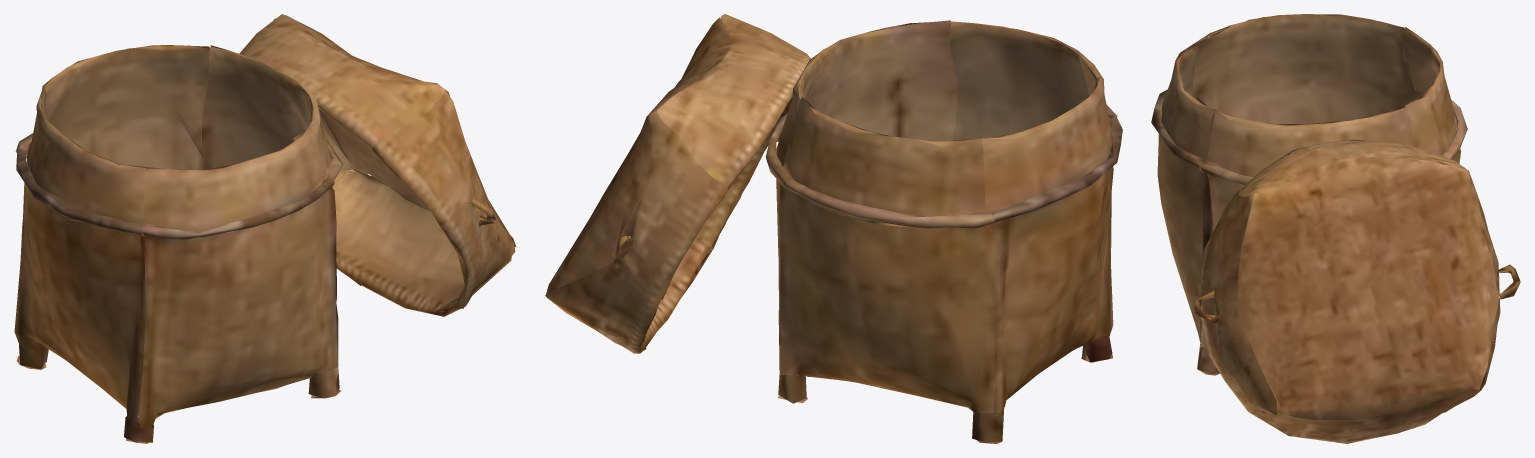
Rendered from basket-lightweight-151ab8b7d7.glb.
The picture shows the model from 3 angles, left to right: view 1: azimuth 30°, elevation 25°; view 2: azimuth 150°, elevation 25°; view 3: azimuth 270°, elevation 25°; orthographic projection. The views are drawn at different scales.
Parts seen in each view (by area): view 1: wicker_basket_02_base; view 2: wicker_basket_02_base; view 3: wicker_basket_02_base.
Boxes of the visible parts, left/top/right/bottom form: wicker_basket_02_base: left=14, top=14, right=516, bottom=443; wicker_basket_02_base: left=545, top=14, right=1122, bottom=443; wicker_basket_02_base: left=1151, top=14, right=1520, bottom=443.
Bounding box in the file's own units: 0.3463 × 0.2013 × 0.2547.
1 material, 1 textured.
